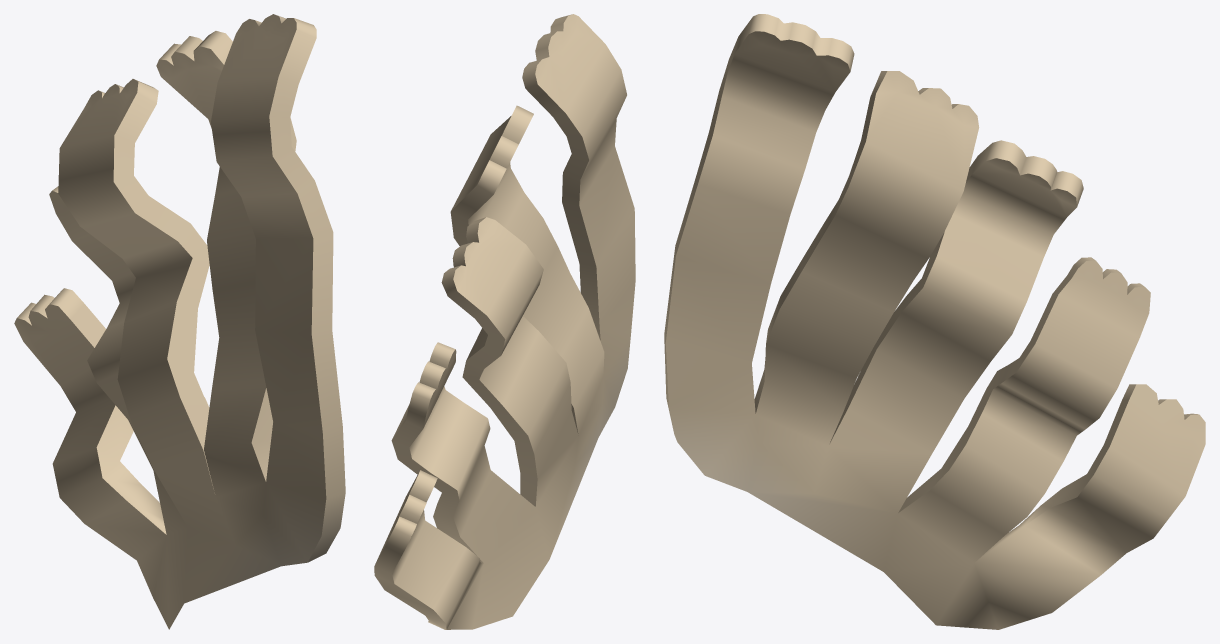
Rendered from S12_Aquatic06_L2_Back.glb.
The picture shows the model from 3 angles, left to right: view 1: azimuth 30°, elevation 25°; view 2: azimuth 150°, elevation 25°; view 3: azimuth 270°, elevation 25°; orthographic projection. The views are drawn at different scales.
Parts seen in each view (by area): view 1: S12_Aquatic06_L2_Back__Back_M__surface0__lod0; view 2: S12_Aquatic06_L2_Back__Back_M__surface0__lod0; view 3: S12_Aquatic06_L2_Back__Back_M__surface0__lod0.
Boxes of the visible parts, x1,y1,x2,y2 form: S12_Aquatic06_L2_Back__Back_M__surface0__lod0: (14, 14, 345, 629); S12_Aquatic06_L2_Back__Back_M__surface0__lod0: (374, 14, 635, 629); S12_Aquatic06_L2_Back__Back_M__surface0__lod0: (664, 14, 1205, 629).
Bounding box in the file's own units: 0.1502 × 0.7716 × 0.6162.
